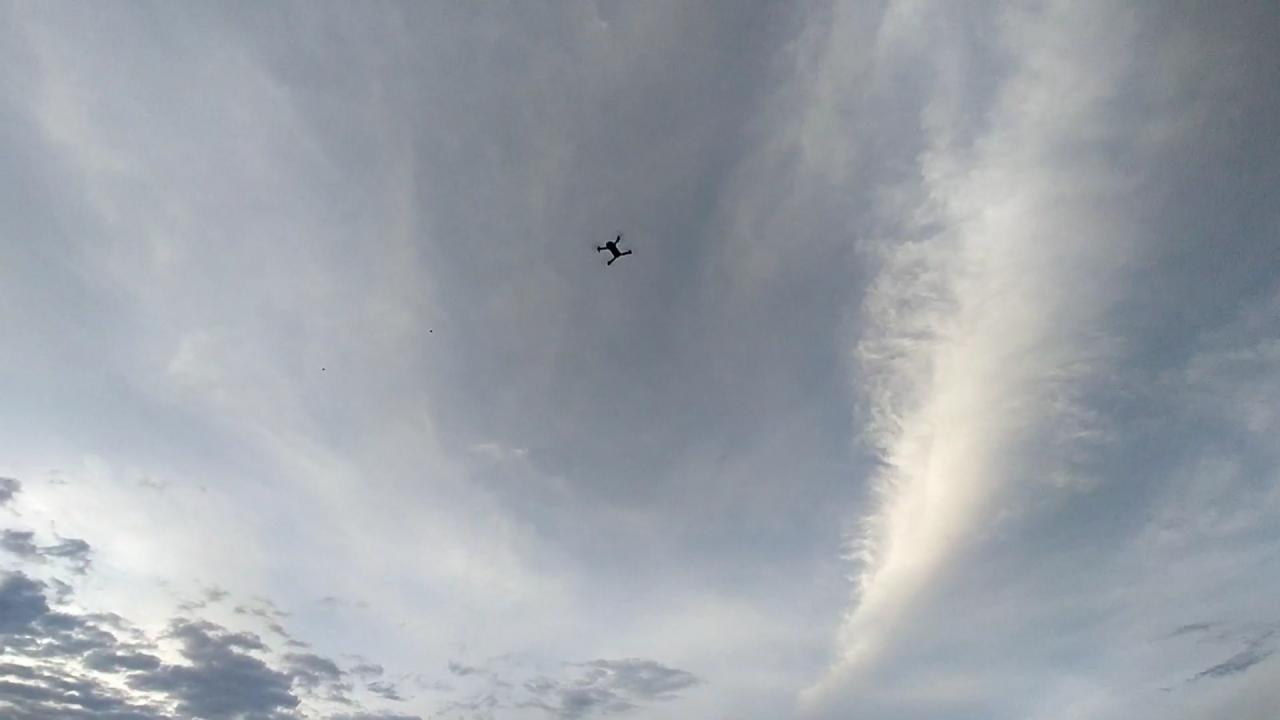Drone: (587, 227, 642, 276)
